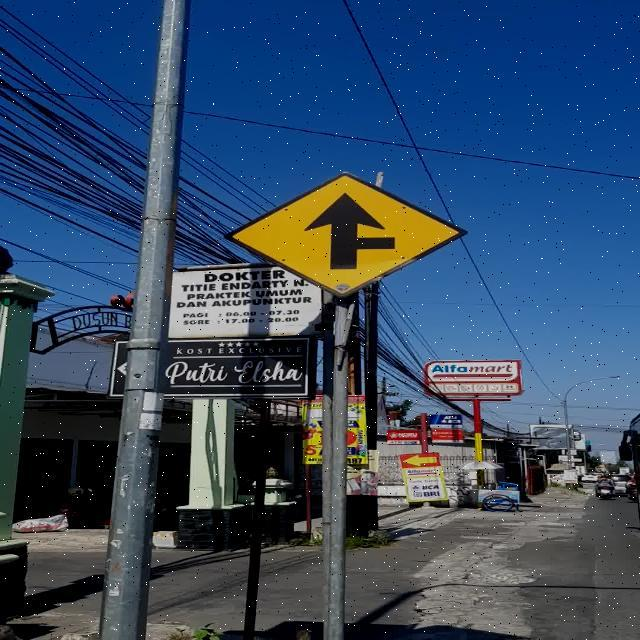Persimpangan 3 Prioritas Kanan: (224, 171, 468, 299)
